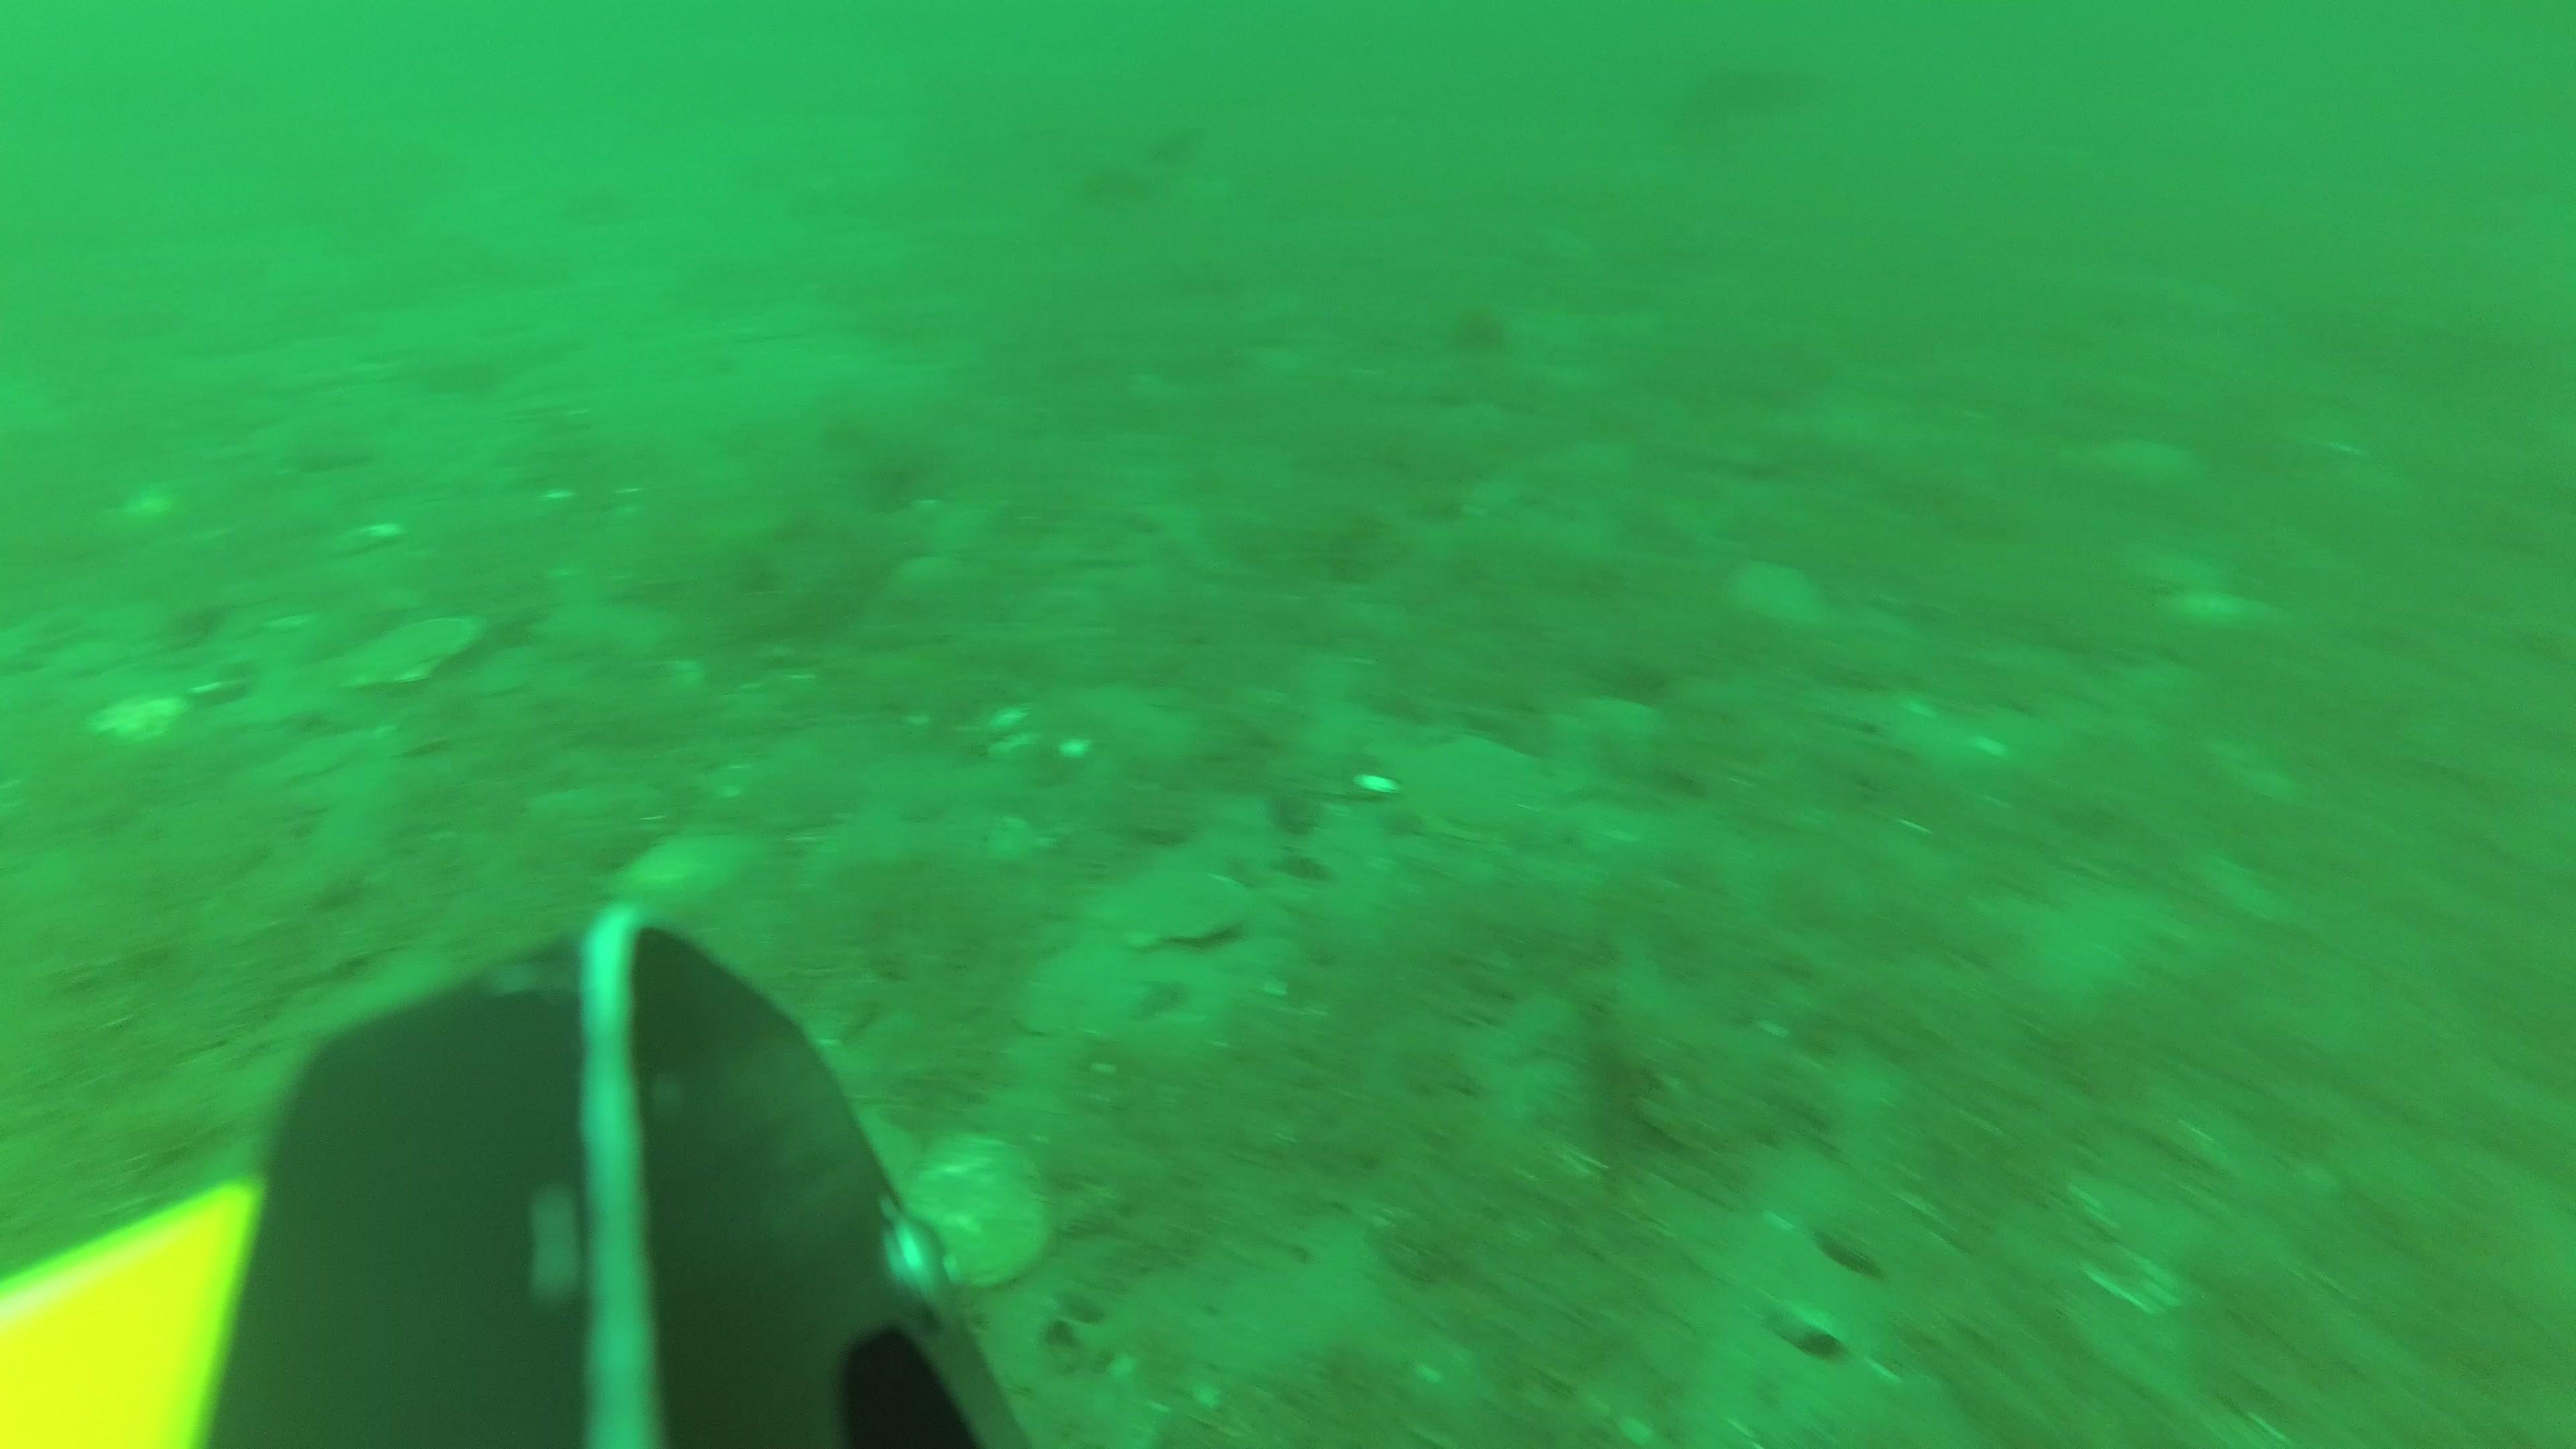scallop: (906, 1129, 1053, 1286), (1410, 732, 1543, 842), (1099, 867, 1251, 948), (338, 614, 483, 688)
